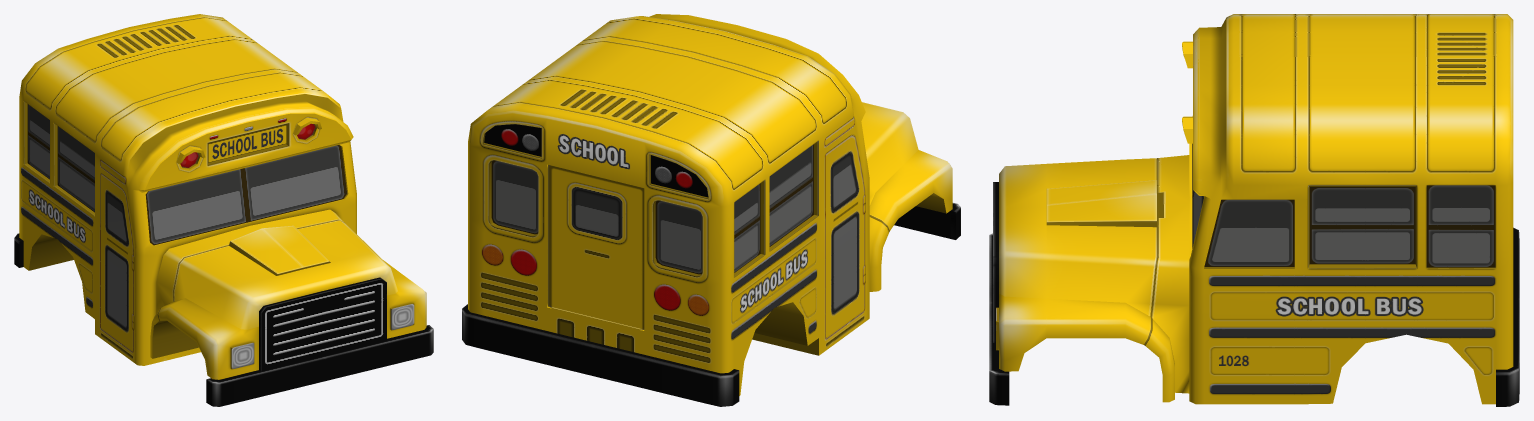
The model's file is schoolbus.FBX.
The picture shows the model from 3 angles, left to right: view 1: azimuth 30°, elevation 25°; view 2: azimuth 150°, elevation 25°; view 3: azimuth 270°, elevation 25°; orthographic projection. The views are drawn at different scales.
Visible parts, largest first — view 1: schoolbus; view 2: schoolbus; view 3: schoolbus.
Boxes of the visible parts, x1,y1,x2,y2 form: schoolbus: (14,14,433,406); schoolbus: (462,14,960,406); schoolbus: (989,14,1519,406).
Bounding box in the file's own units: 0.3432 × 0.3231 × 0.5237.
